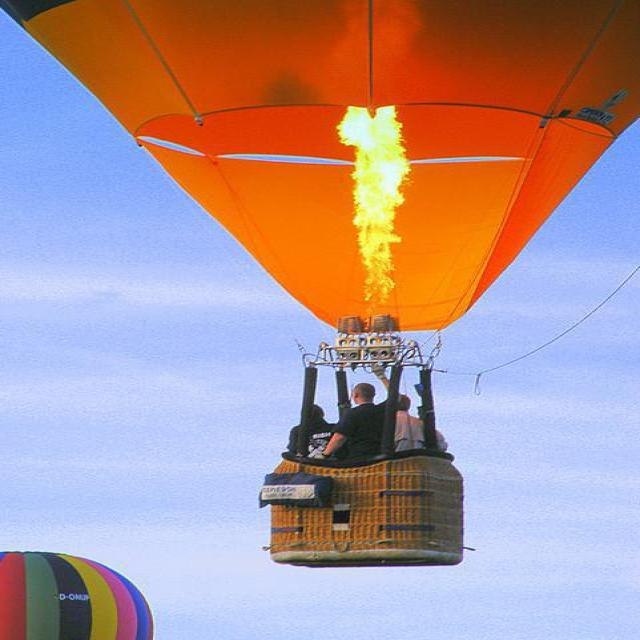fire: (318, 102, 414, 326)
